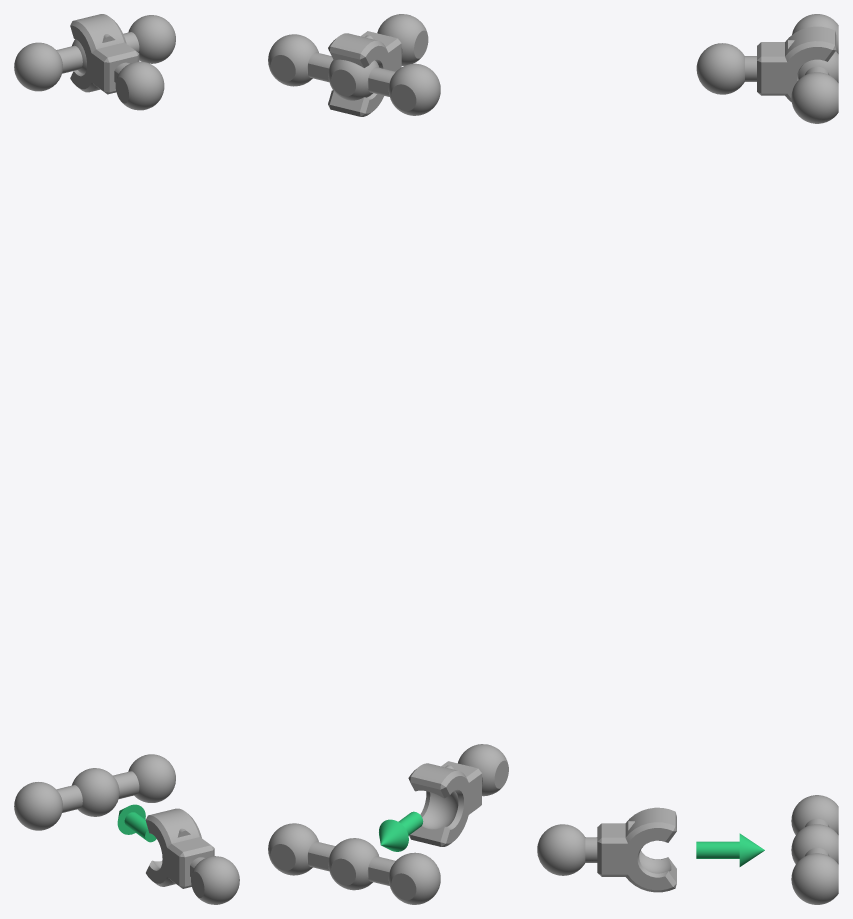
File: hips_a.glb
3 views of the same model, side by side, from view 1: azimuth 30°, elevation 25°; view 2: azimuth 150°, elevation 25°; view 3: azimuth 270°, elevation 25° (orthographic). The views are drawn at different scales.
Parts seen in each view (by area): view 1: Body1.020, Body1.021, Body1.019, Body1.018, Arrow.003; view 2: Body1.020, Body1.018, Body1.021, Body1.019, Arrow.003; view 3: Body1.021, Body1.019, Body1.020, Body1.018, Arrow.003.
Boxes of the visible parts, box(x1,y1,x2,y2) form: Body1.020: box(14, 754, 175, 830); Body1.021: box(145, 808, 239, 904); Body1.019: box(70, 14, 164, 110); Body1.018: box(14, 15, 175, 91); Arrow.003: box(117, 804, 156, 842); Body1.020: box(268, 823, 440, 904); Body1.018: box(268, 34, 440, 115); Body1.021: box(408, 744, 508, 846); Body1.019: box(328, 14, 428, 116); Arrow.003: box(379, 811, 423, 851); Body1.021: box(537, 807, 676, 892); Body1.019: box(696, 26, 836, 101); Body1.020: box(791, 795, 838, 904); Body1.018: box(791, 14, 838, 123); Arrow.003: box(696, 833, 764, 866).
Size of the model in its own units: 22 by 109 by 34.99.
